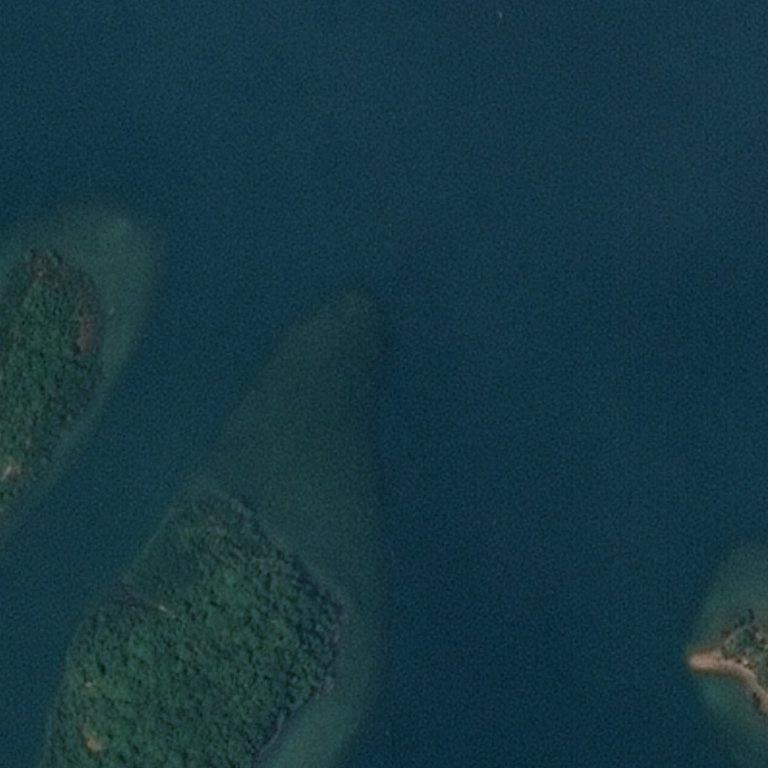ship: (496, 5, 503, 8), (500, 16, 502, 19), (497, 11, 499, 13), (499, 10, 500, 11)
